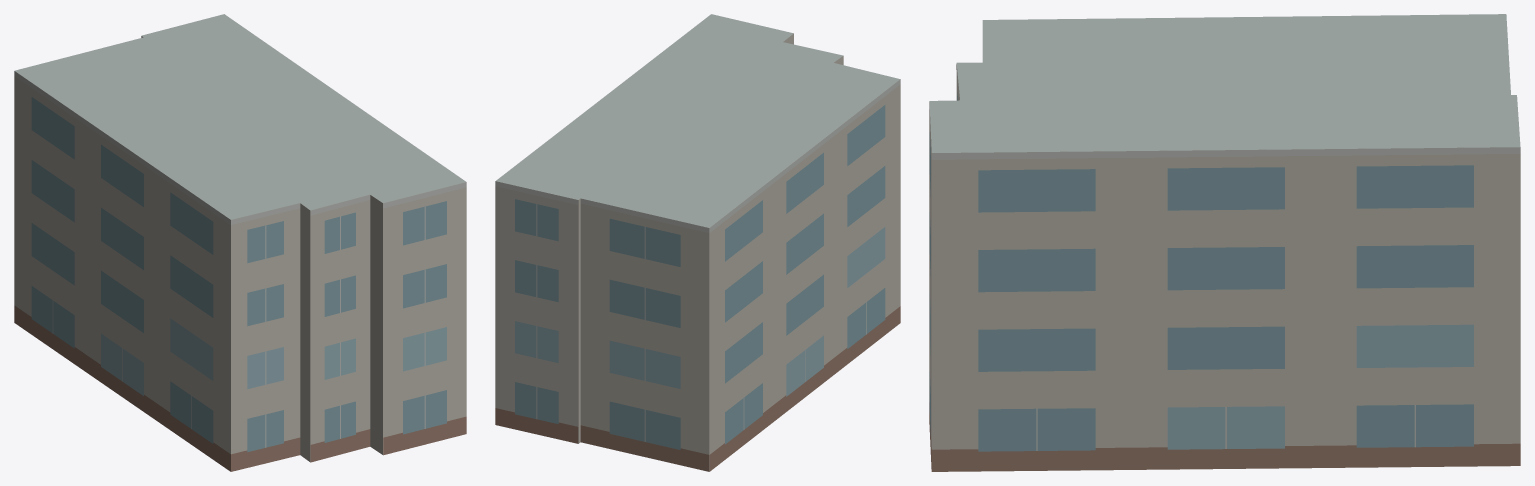
Rendered from survey-upis-32622144.glb.
3 views of the same model, side by side, from view 1: azimuth 30°, elevation 25°; view 2: azimuth 150°, elevation 25°; view 3: azimuth 270°, elevation 25° (orthographic). The views are drawn at different scales.
Visible parts, largest first — view 1: survey-upis-32622144.tmp; view 2: survey-upis-32622144.tmp; view 3: survey-upis-32622144.tmp.
Boxes of the visible parts, box(x1,y1,x2,y2) form: survey-upis-32622144.tmp: box(14, 14, 466, 471); survey-upis-32622144.tmp: box(495, 14, 900, 471); survey-upis-32622144.tmp: box(929, 14, 1520, 471).
Size of the model in its own units: 10.96 by 11.7 by 19.67.
